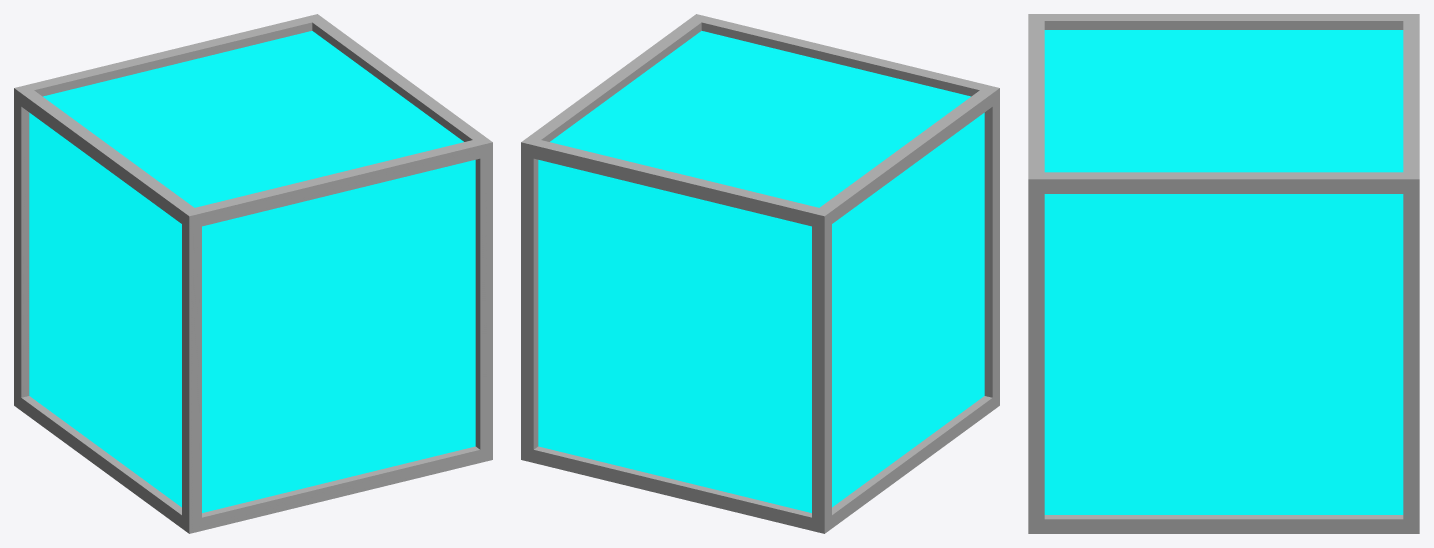
The model's file is SFI0410014.fbx.
3 renders of one model, left to right at view 1: azimuth 30°, elevation 25°; view 2: azimuth 150°, elevation 25°; view 3: azimuth 270°, elevation 25°, orthographic. The views are drawn at different scales.
Parts seen in each view (by area): view 1: smSFI0410014; view 2: smSFI0410014; view 3: smSFI0410014.
Part boxes in pixels (box(x1,y1,x2,y2)): smSFI0410014: box(14, 14, 492, 533); smSFI0410014: box(521, 14, 999, 533); smSFI0410014: box(1028, 14, 1419, 533).
Size of the model in its own units: 100 by 100 by 100.
